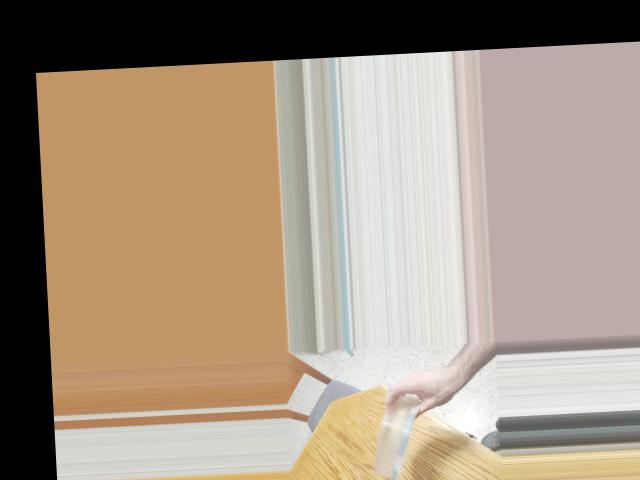cheese: (374, 385, 414, 480)
